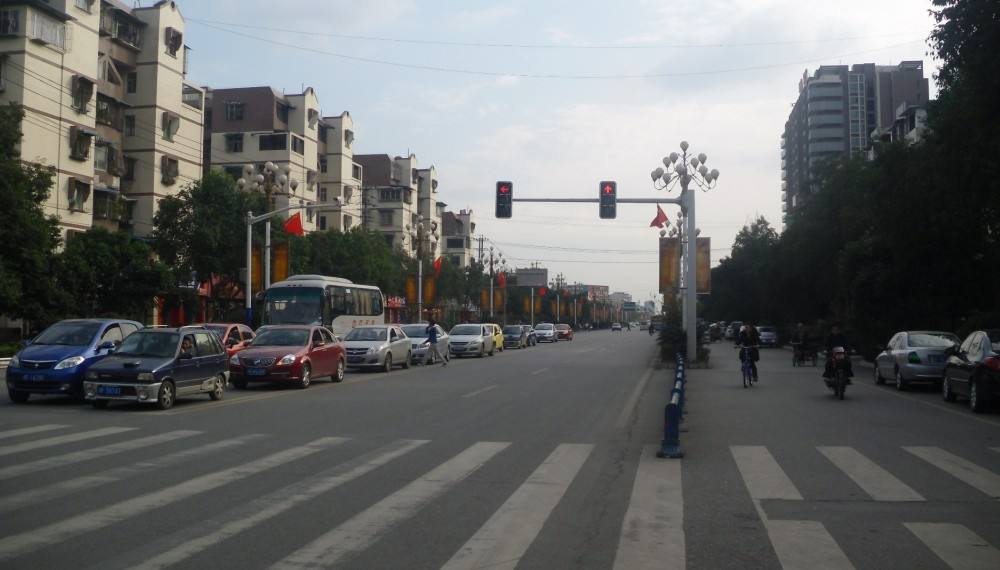red: (493, 178, 514, 223), (599, 178, 618, 224)
